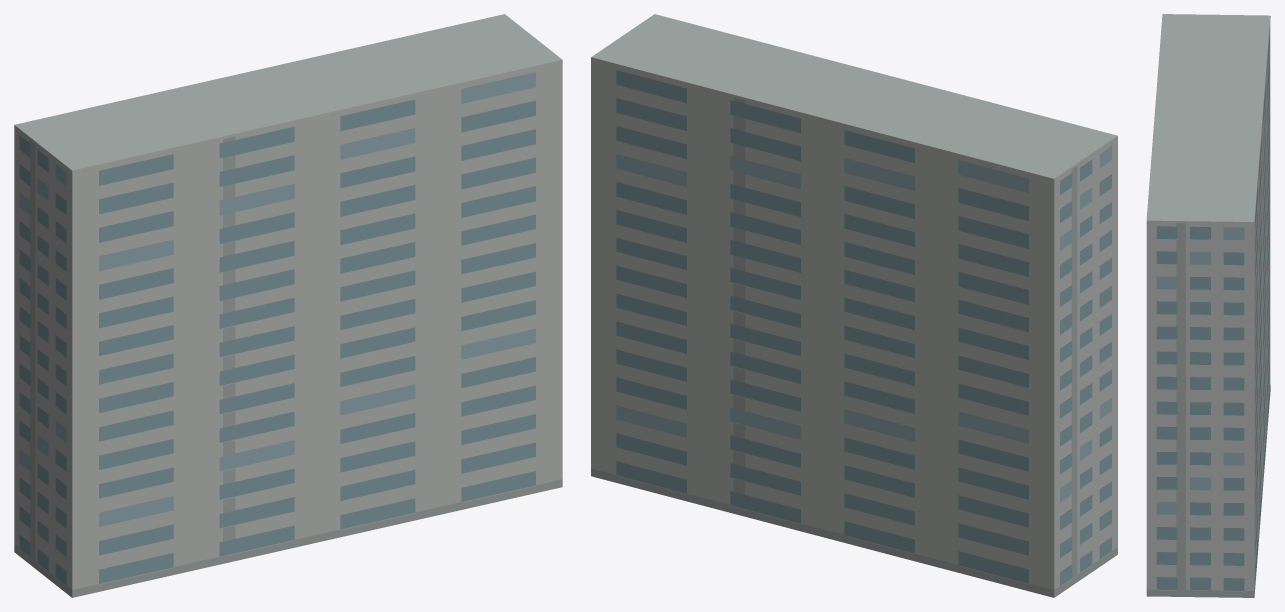
The model's file is residential-4b899f16-4ffe-4a59-9f1b-18b2c49336a3.glb.
3 renders of one model, left to right at view 1: azimuth 30°, elevation 25°; view 2: azimuth 150°, elevation 25°; view 3: azimuth 270°, elevation 25°, orthographic. The views are drawn at different scales.
Visible parts, largest first — view 1: residential-4b899f16-4ffe-4a59-9f1b-18b2c49336a3.tmp; view 2: residential-4b899f16-4ffe-4a59-9f1b-18b2c49336a3.tmp; view 3: residential-4b899f16-4ffe-4a59-9f1b-18b2c49336a3.tmp.
Boxes of the visible parts, bbox=[...] form: residential-4b899f16-4ffe-4a59-9f1b-18b2c49336a3.tmp: bbox=[14, 14, 562, 597]; residential-4b899f16-4ffe-4a59-9f1b-18b2c49336a3.tmp: bbox=[591, 14, 1117, 597]; residential-4b899f16-4ffe-4a59-9f1b-18b2c49336a3.tmp: bbox=[1146, 14, 1270, 597].
Bounding box in the file's own units: 47.5 × 40 × 11.97.
